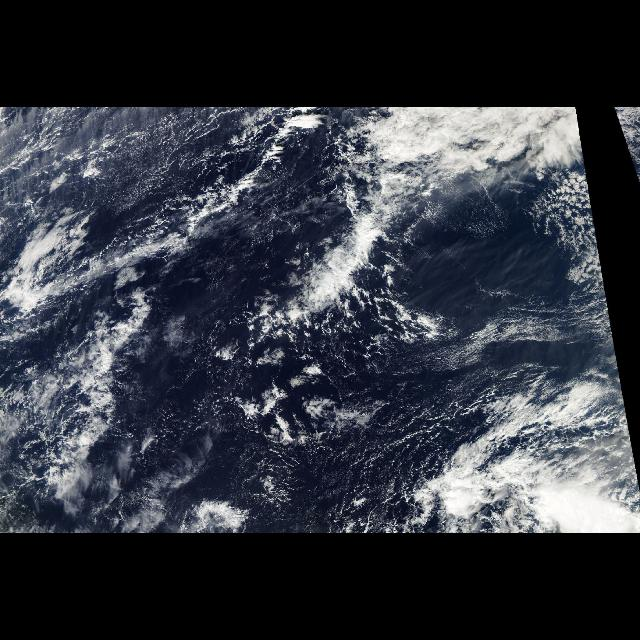Gravel: (2, 107, 498, 533)
Sugar: (429, 208, 578, 398), (11, 108, 217, 216)
